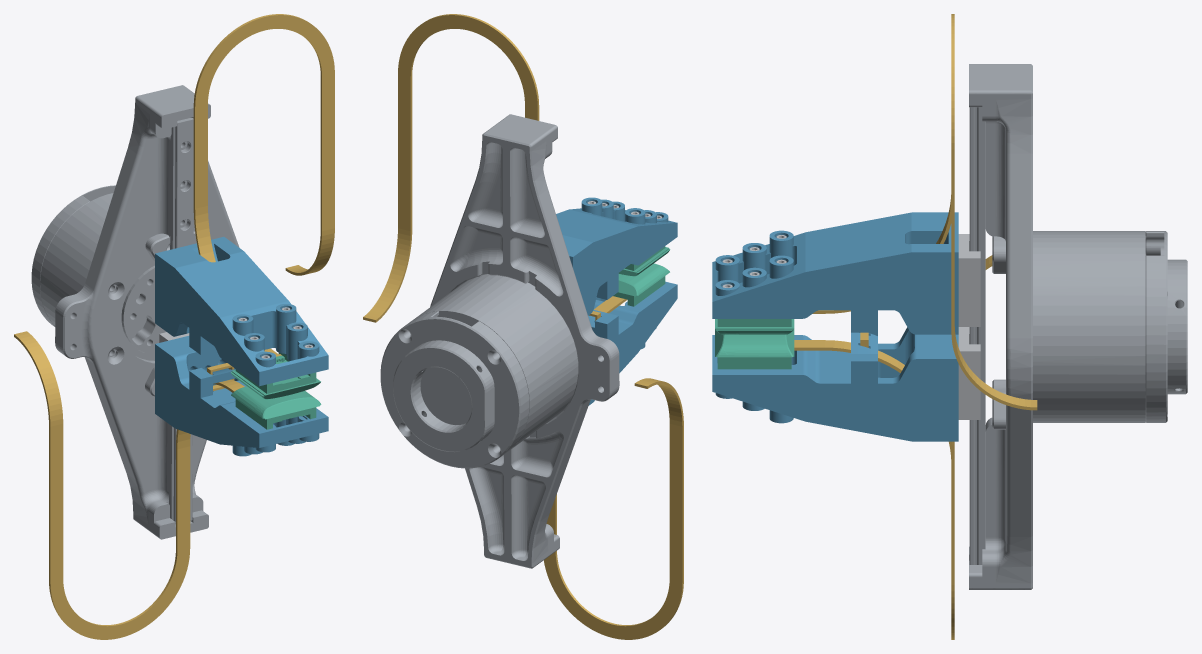
File: assembly_open0.glb
The picture shows the model from 3 angles, left to right: view 1: azimuth 30°, elevation 25°; view 2: azimuth 150°, elevation 25°; view 3: azimuth 270°, elevation 25°; orthographic projection. The views are drawn at different scales.
Parts seen in each view (by area): view 1: original_actuator_and_transmission, replacement_finger_2, replacement_finger_1, service_loop_envelope_1, service_loop_envelope_2, M2324_1, M2324_2, moving_harness_envelope_2, moving_harness_envelope_1; view 2: original_actuator_and_transmission, replacement_finger_2, service_loop_envelope_2, service_loop_envelope_1, replacement_finger_1, M2324_1, M2324_2; view 3: original_actuator_and_transmission, replacement_finger_2, replacement_finger_1, M2324_1, service_loop_envelope_2, retained_carrier_2, retained_carrier_1, M2324_2, moving_harness_envelope_1, service_loop_envelope_1.
Part boxes in pixels (bbox=[...]): original_actuator_and_transmission: bbox=[31, 85, 239, 539]; replacement_finger_2: bbox=[155, 237, 328, 386]; replacement_finger_1: bbox=[155, 336, 328, 456]; service_loop_envelope_1: bbox=[14, 331, 190, 639]; service_loop_envelope_2: bbox=[193, 14, 334, 275]; M2324_1: bbox=[231, 386, 321, 429]; M2324_2: bbox=[231, 353, 320, 399]; moving_harness_envelope_2: bbox=[193, 205, 277, 354]; moving_harness_envelope_1: bbox=[176, 379, 244, 449]; original_actuator_and_transmission: bbox=[380, 114, 619, 568]; replacement_finger_2: bbox=[556, 197, 677, 315]; service_loop_envelope_2: bbox=[363, 14, 539, 322]; service_loop_envelope_1: bbox=[544, 378, 683, 639]; replacement_finger_1: bbox=[588, 281, 677, 405]; M2324_1: bbox=[613, 263, 669, 306]; M2324_2: bbox=[618, 246, 670, 276]; original_actuator_and_transmission: bbox=[969, 64, 1187, 589]; replacement_finger_2: bbox=[712, 212, 958, 334]; replacement_finger_1: bbox=[712, 327, 958, 441]; M2324_1: bbox=[715, 329, 794, 369]; service_loop_envelope_2: bbox=[951, 14, 1037, 410]; retained_carrier_2: bbox=[958, 234, 980, 326]; retained_carrier_1: bbox=[958, 327, 980, 419]; M2324_2: bbox=[715, 319, 794, 334]; moving_harness_envelope_1: bbox=[794, 340, 954, 464]; service_loop_envelope_1: bbox=[951, 255, 992, 639].
Size of the model in its own units: 0.1152 by 0.2266 by 0.1412.
